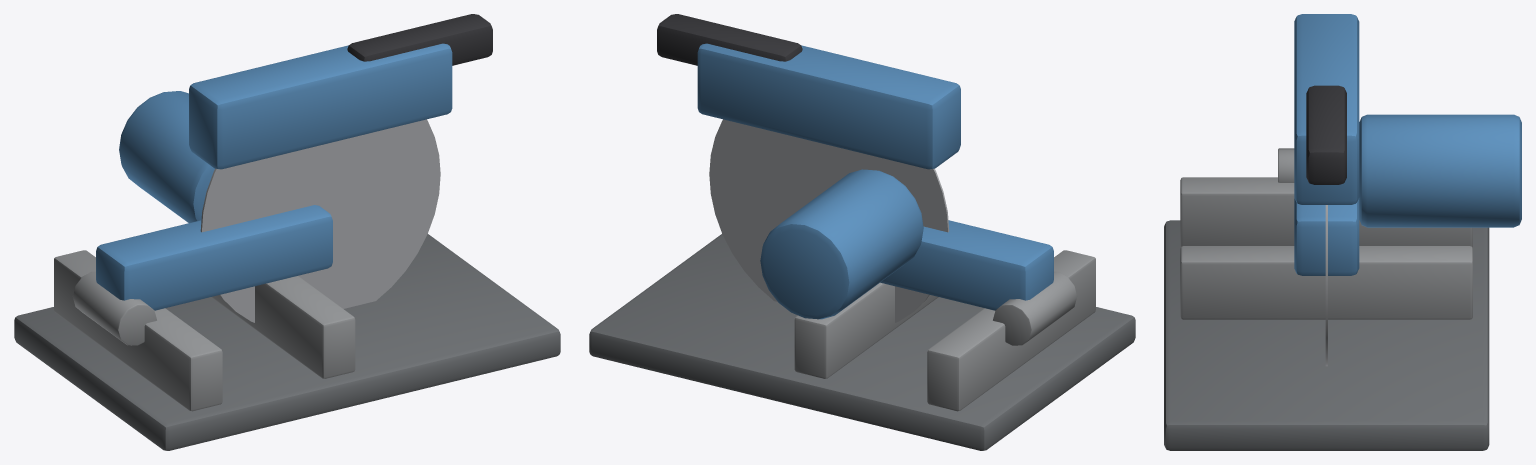
Rendered from EQP-PEQ-002_anim.glb.
3 renders of one model, left to right at view 1: azimuth 30°, elevation 25°; view 2: azimuth 150°, elevation 25°; view 3: azimuth 270°, elevation 25°, orthographic. The views are drawn at different scales.
Parts seen in each view (by area): view 1: EQP-PEQ-002_anim2, EQP-PEQ-002_anim1, EQP-PEQ-002_anim0; view 2: EQP-PEQ-002_anim2, EQP-PEQ-002_anim1, EQP-PEQ-002_anim0; view 3: EQP-PEQ-002_anim2, EQP-PEQ-002_anim1, EQP-PEQ-002_anim0.
Boxes of the visible parts, x1,y1,x2,y2 form: EQP-PEQ-002_anim2: (14,234,560,450); EQP-PEQ-002_anim1: (96,14,492,310); EQP-PEQ-002_anim0: (200,119,440,322); EQP-PEQ-002_anim2: (589,234,1135,450); EQP-PEQ-002_anim1: (657,14,1053,319); EQP-PEQ-002_anim0: (709,119,949,322); EQP-PEQ-002_anim2: (1164,148,1489,450); EQP-PEQ-002_anim1: (1294,14,1521,275); EQP-PEQ-002_anim0: (1325,205,1327,366).
Bounding box in the file's own units: 0.6 × 0.41 × 0.44.
